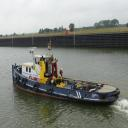tugboat: (12, 40, 122, 108)
